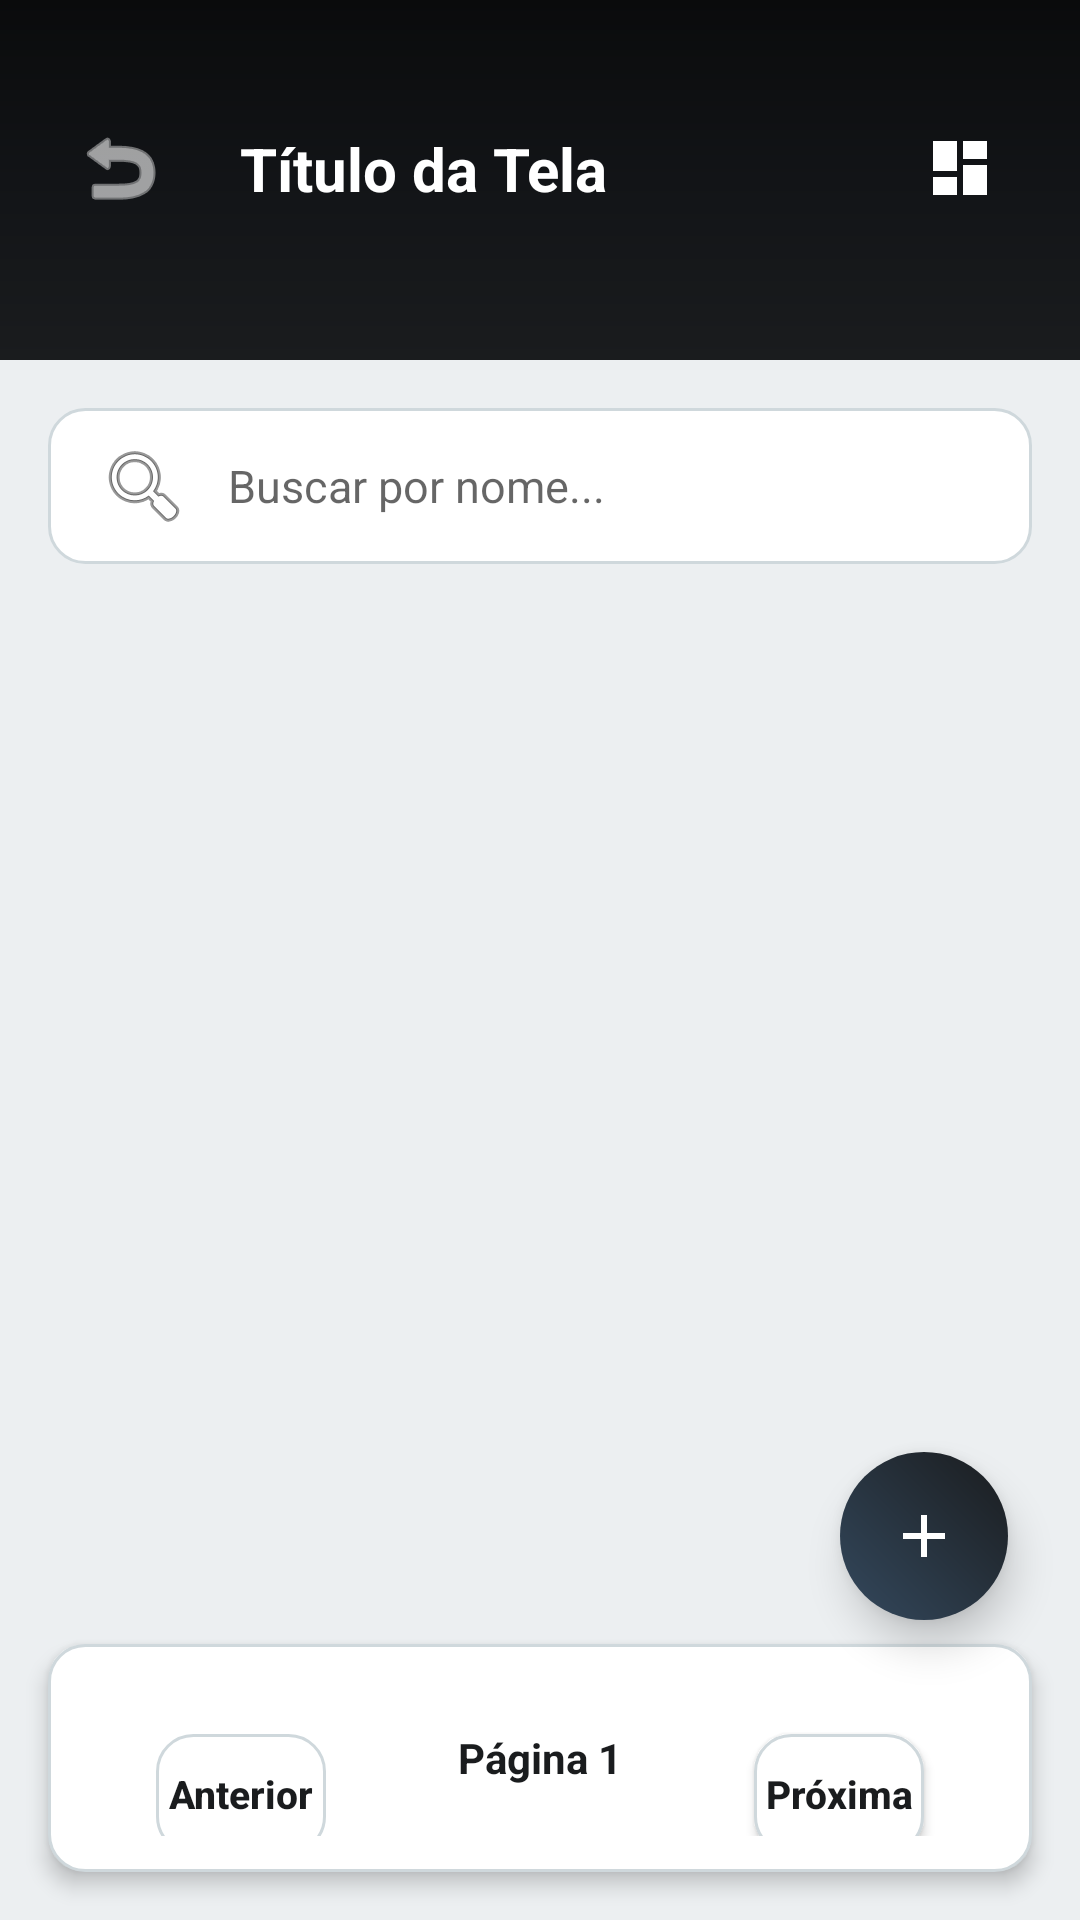

Icon click points for this 1080x1920 phone screenshot, format (x,y):
add: (924,1536)
dashboard: (960,168)
revert: (121,168)
